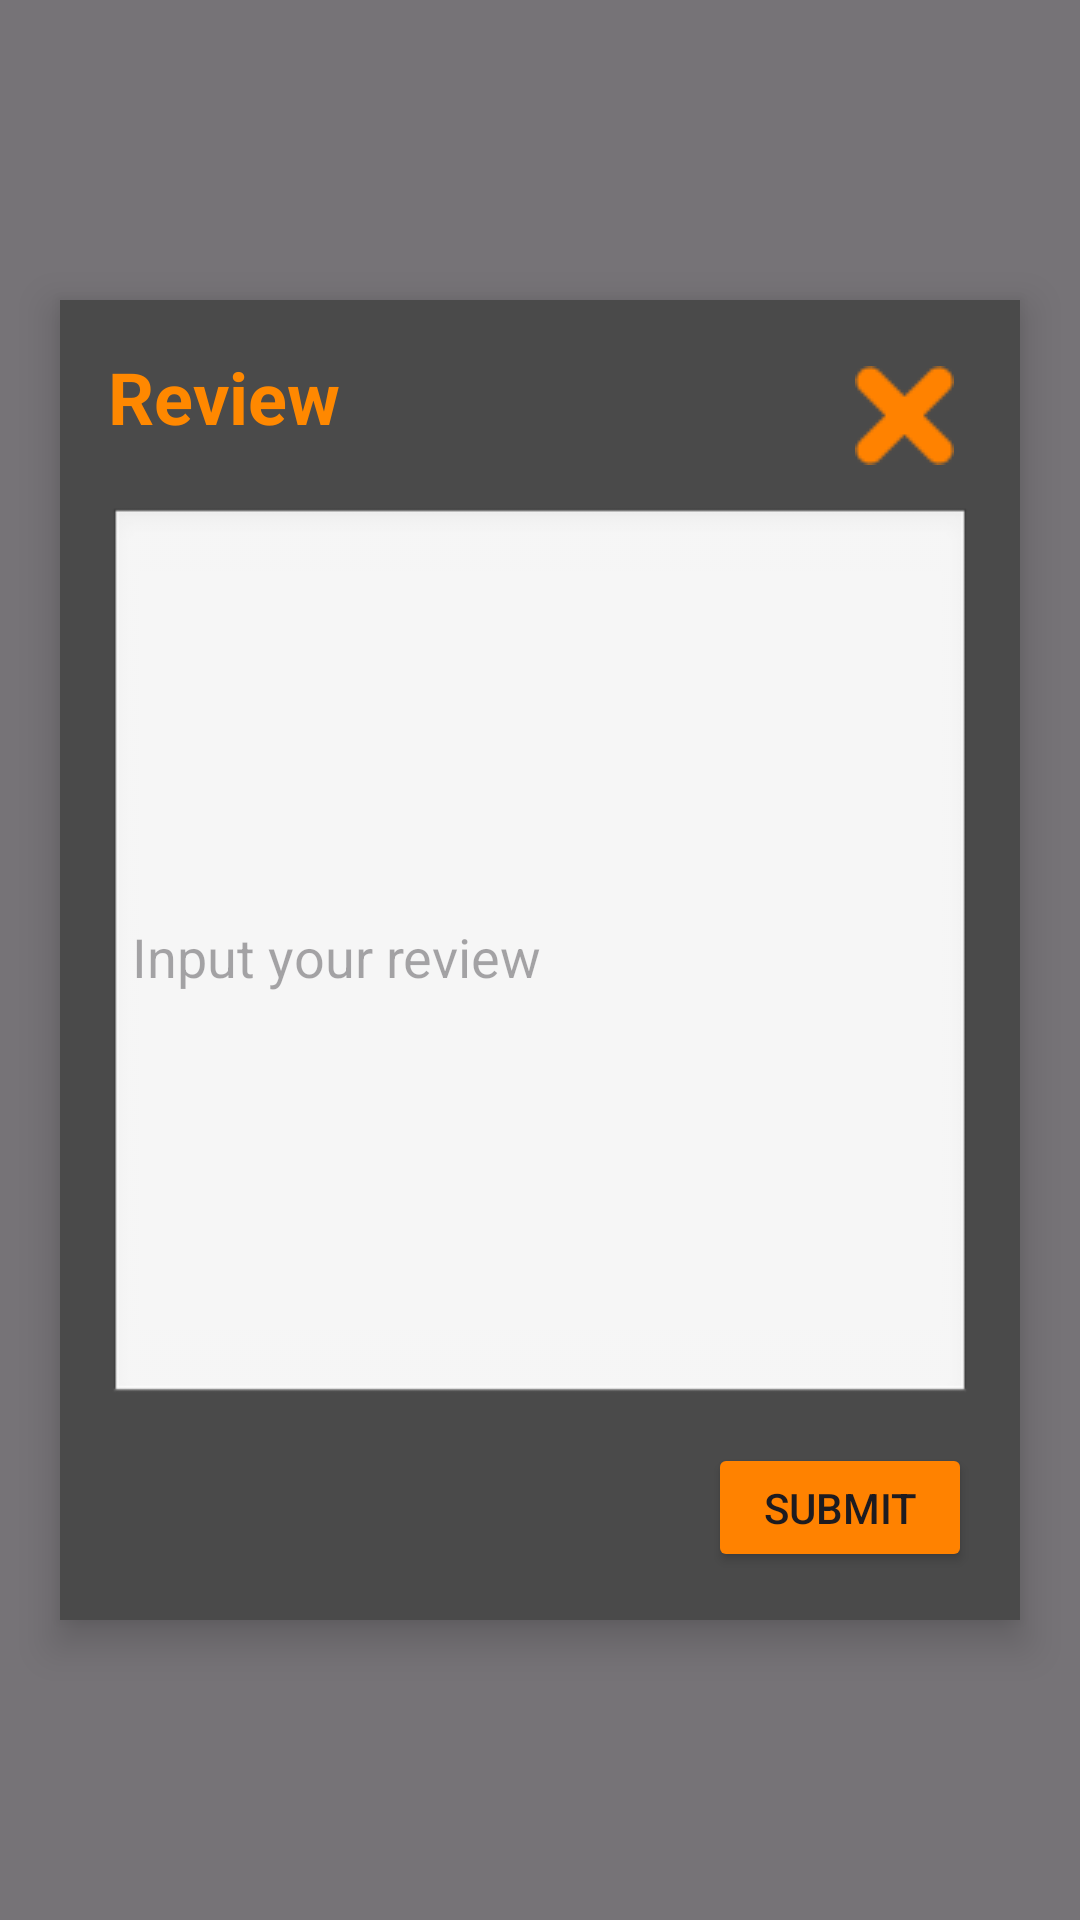

Named icons in this screenshot (1080 x 1920) and their centers, (x,y):
Close: (904,415)
